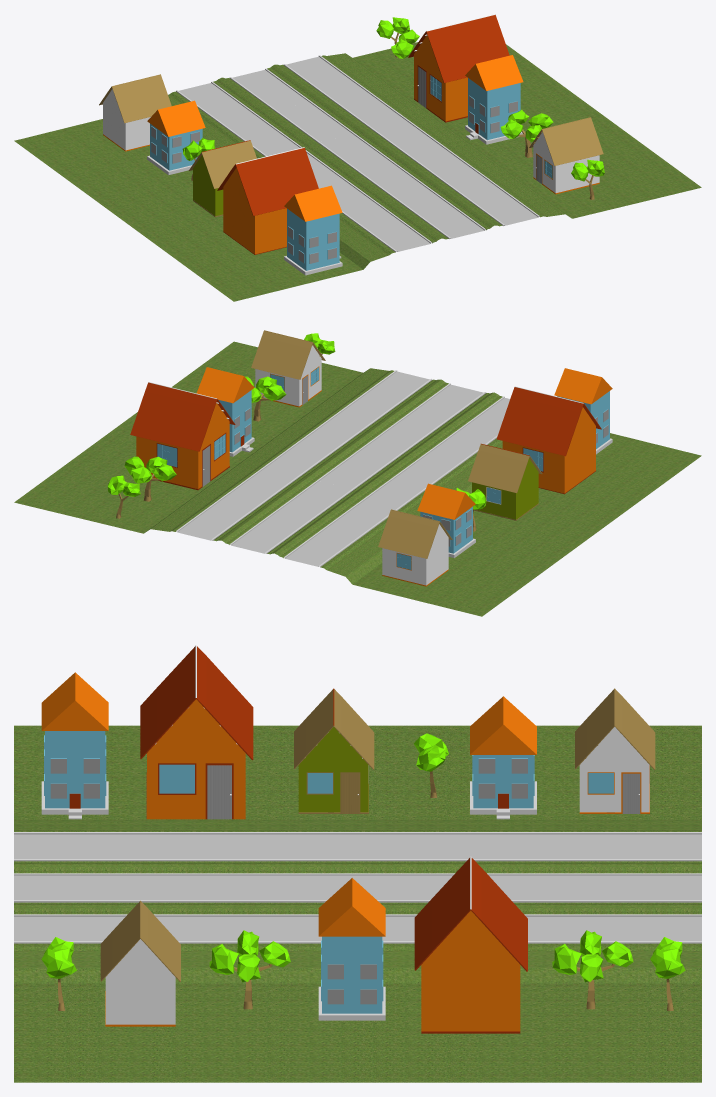
3 renders of one model, top to bottom at view 1: azimuth 30°, elevation 25°; view 2: azimuth 150°, elevation 25°; view 3: azimuth 270°, elevation 25°, orthographic. The views are drawn at different scales.
Parts seen in each view (by area): view 1: E-Chão.006, g1.001; view 2: E-Chão.006, g1.001; view 3: E-Chão.006, g1.001.
Part boxes in pixels (x1,y1,x2,y2): E-Chão.006: (14,42,701,301); g1.001: (99,14,604,275); E-Chão.006: (14,341,701,616); g1.001: (107,330,612,586); E-Chão.006: (14,725,701,1082); g1.001: (41,645,685,1033).
Size of the model in its own units: 14450 by 2425 by 11762.
